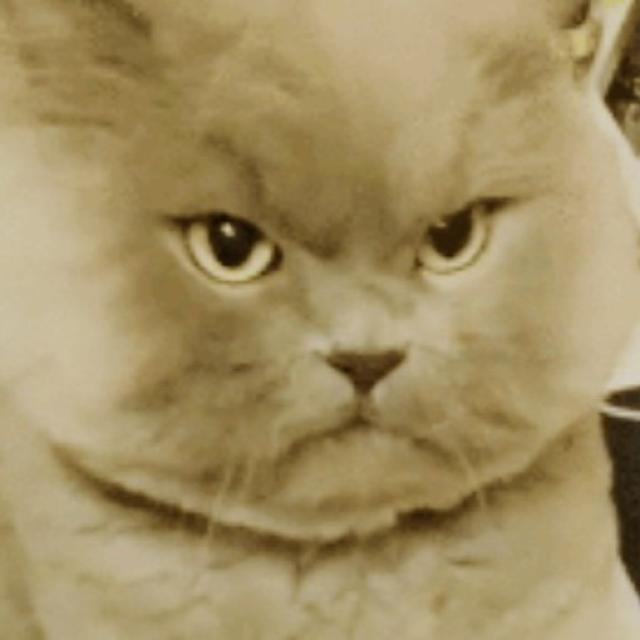Angry: (84, 138, 568, 507)
